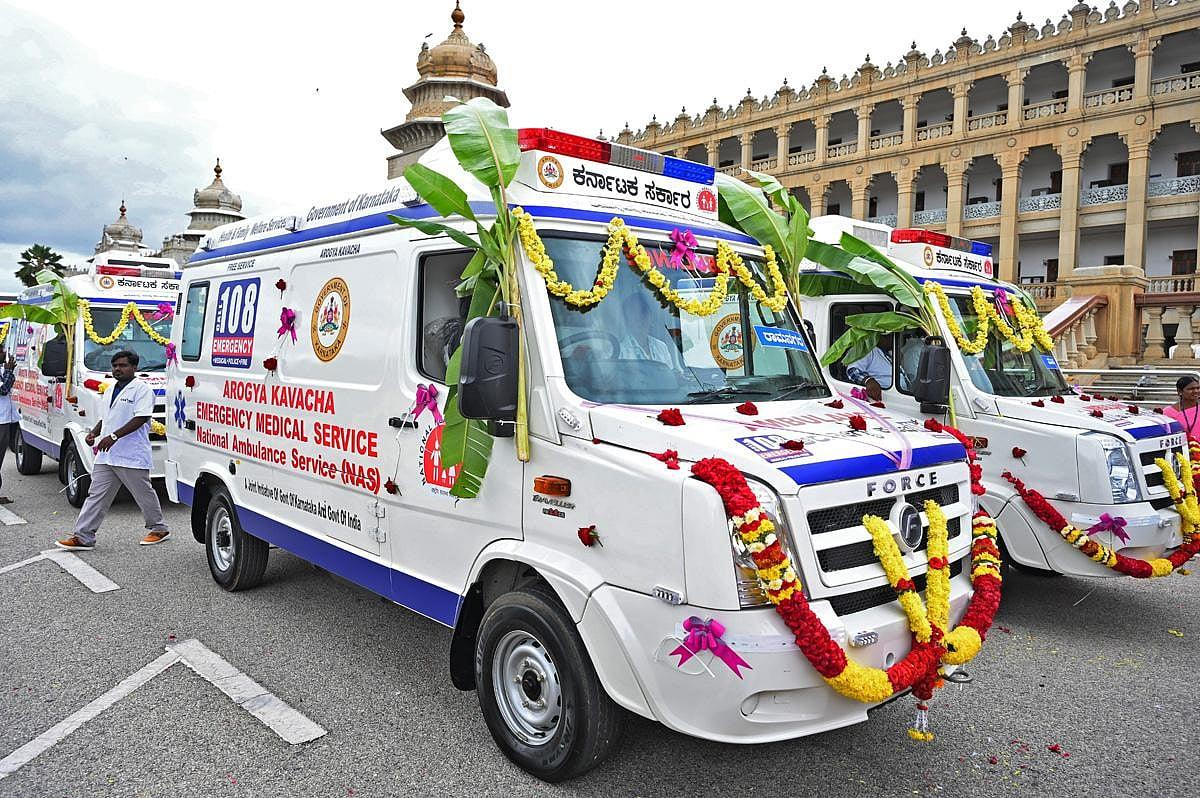ambulance: (170, 173, 976, 748), (878, 223, 1200, 592), (0, 269, 194, 511)
